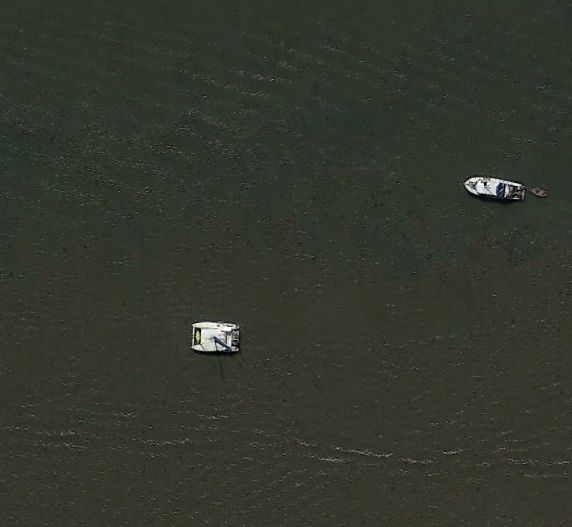boat: (464, 176, 528, 205), (190, 320, 244, 354)
